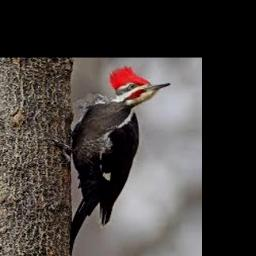Woodpecker: (44, 67, 170, 256)
